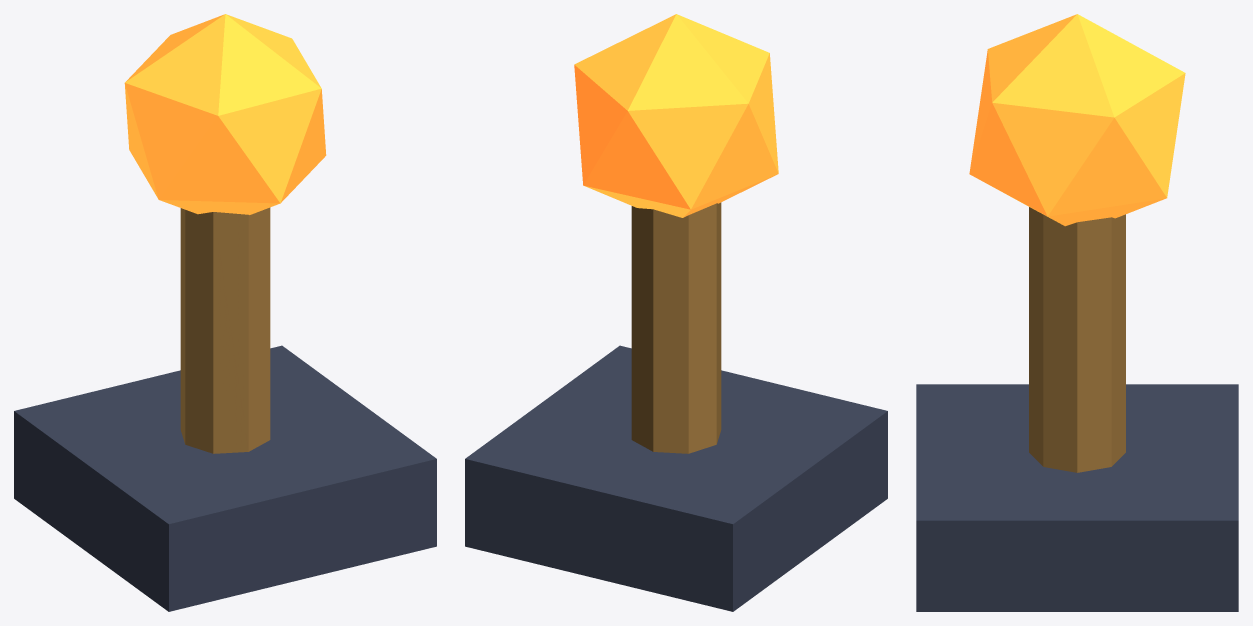
Rendered from oil_shrine.glb.
The picture shows the model from 3 angles, left to right: view 1: azimuth 30°, elevation 25°; view 2: azimuth 150°, elevation 25°; view 3: azimuth 270°, elevation 25°; orthographic projection. The views are drawn at different scales.
Parts seen in each view (by area): view 1: ShrineBase, OilGem, ShrineStem; view 2: ShrineBase, OilGem, ShrineStem; view 3: ShrineBase, OilGem, ShrineStem.
Part boxes in pixels (bbox=[...]): ShrineBase: bbox=[14, 345, 436, 611]; OilGem: bbox=[124, 14, 326, 214]; ShrineStem: bbox=[180, 207, 270, 453]; ShrineBase: bbox=[465, 345, 887, 611]; OilGem: bbox=[574, 14, 778, 217]; ShrineStem: bbox=[631, 202, 721, 453]; ShrineBase: bbox=[916, 384, 1238, 611]; OilGem: bbox=[969, 14, 1185, 226]; ShrineStem: bbox=[1029, 207, 1125, 472].
Size of the model in its own units: 0.8 by 1.45 by 0.8.
